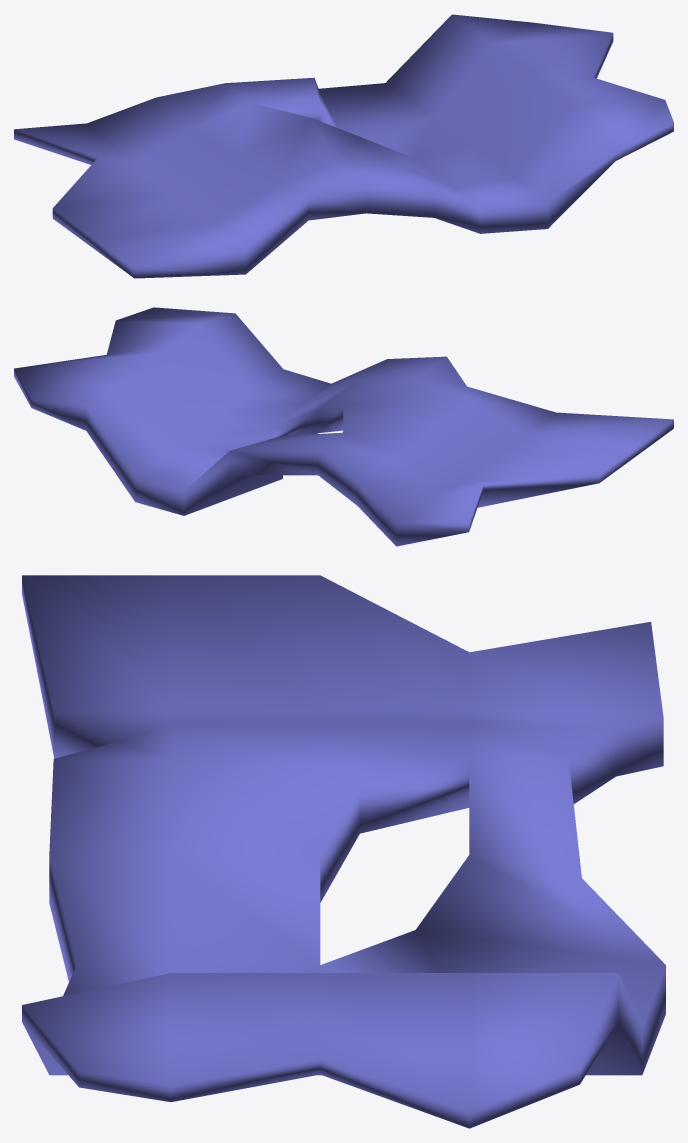
Rendered from ScrapCloth4.fbx.
The picture shows the model from 3 angles, top to bottom: view 1: azimuth 30°, elevation 25°; view 2: azimuth 150°, elevation 25°; view 3: azimuth 270°, elevation 25°; orthographic projection. The views are drawn at different scales.
Parts seen in each view (by area): view 1: Cube; view 2: Cube; view 3: Cube.
Part boxes in pixels (<box>): Cube: <box>14,14,673,278</box>; Cube: <box>14,307,673,546</box>; Cube: <box>22,575,665,1128</box>.
Size of the model in its own units: 152 by 20.65 by 77.38.
